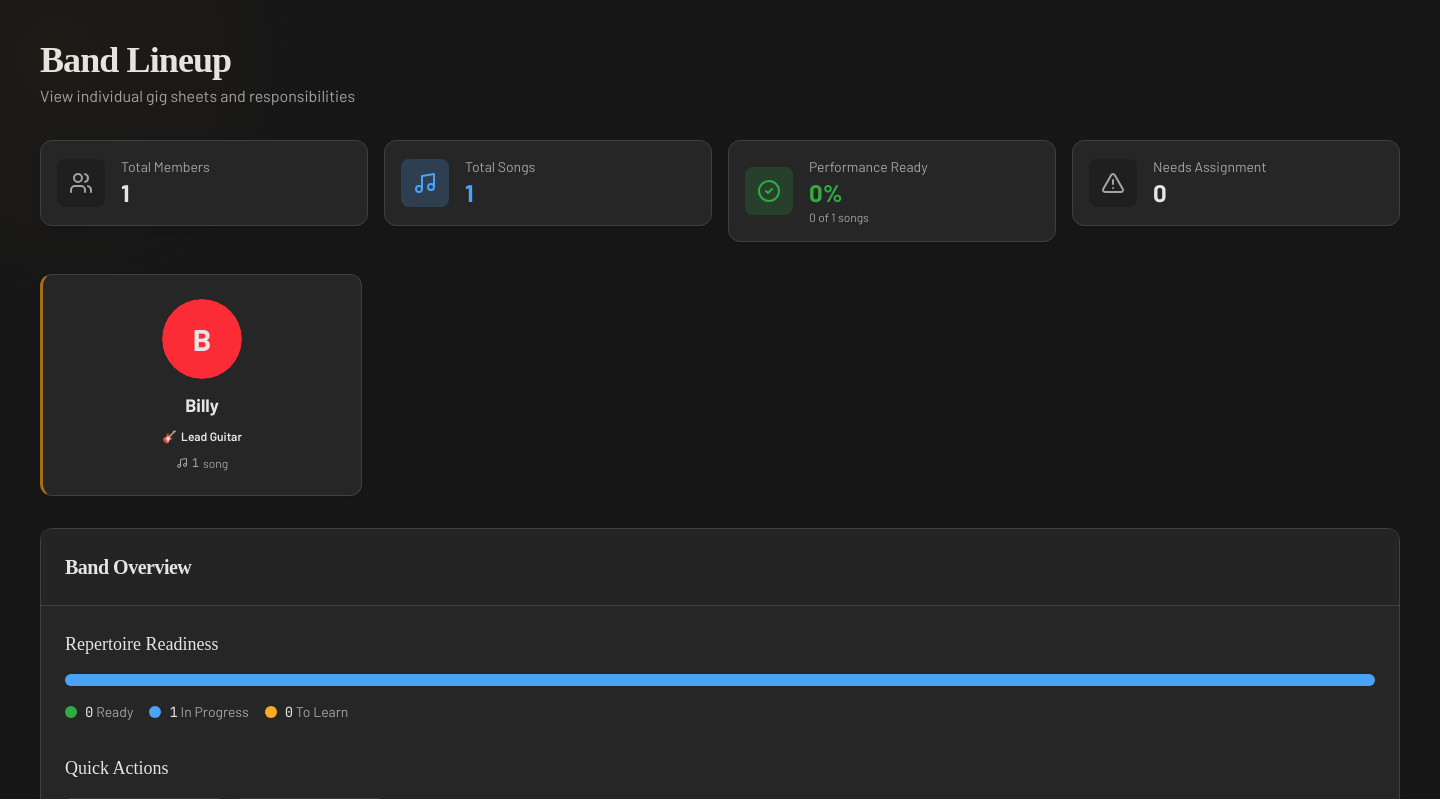
Test: BandDashboard › member selection › closes Gig Sheet when close button is clicked
This screenshot has width=1440, height=799.
// Click on Billy's card
Click the button with aria-label "Select Billy". click: [202, 339]
box: 40,274 -> 362,496
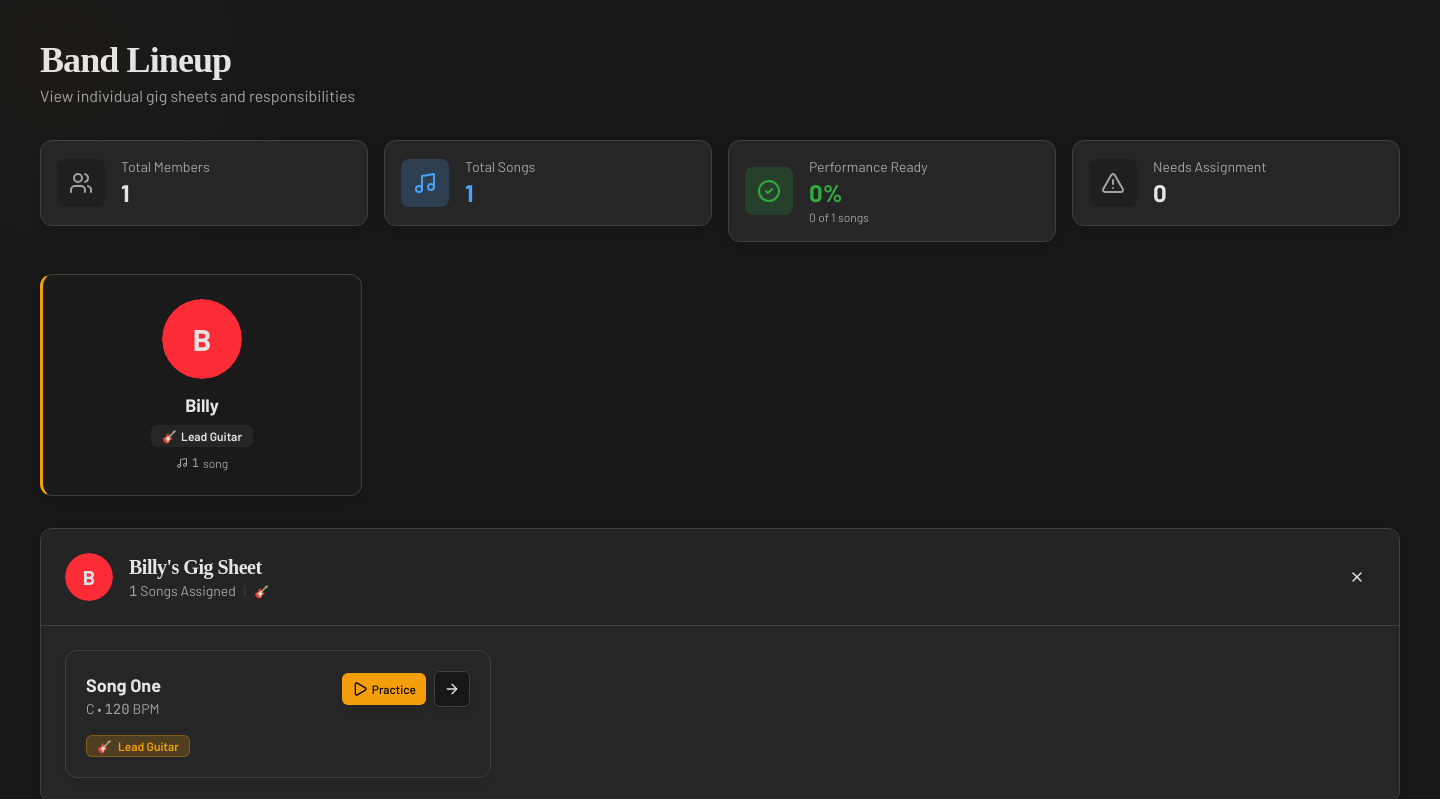
Now the heading "Billy's Gig Sheet" is shown, box 129,553 -> 269,581
// Click close button
Click the button named "Close member details". click: [1357, 577]
box: 1339,559 -> 1375,595
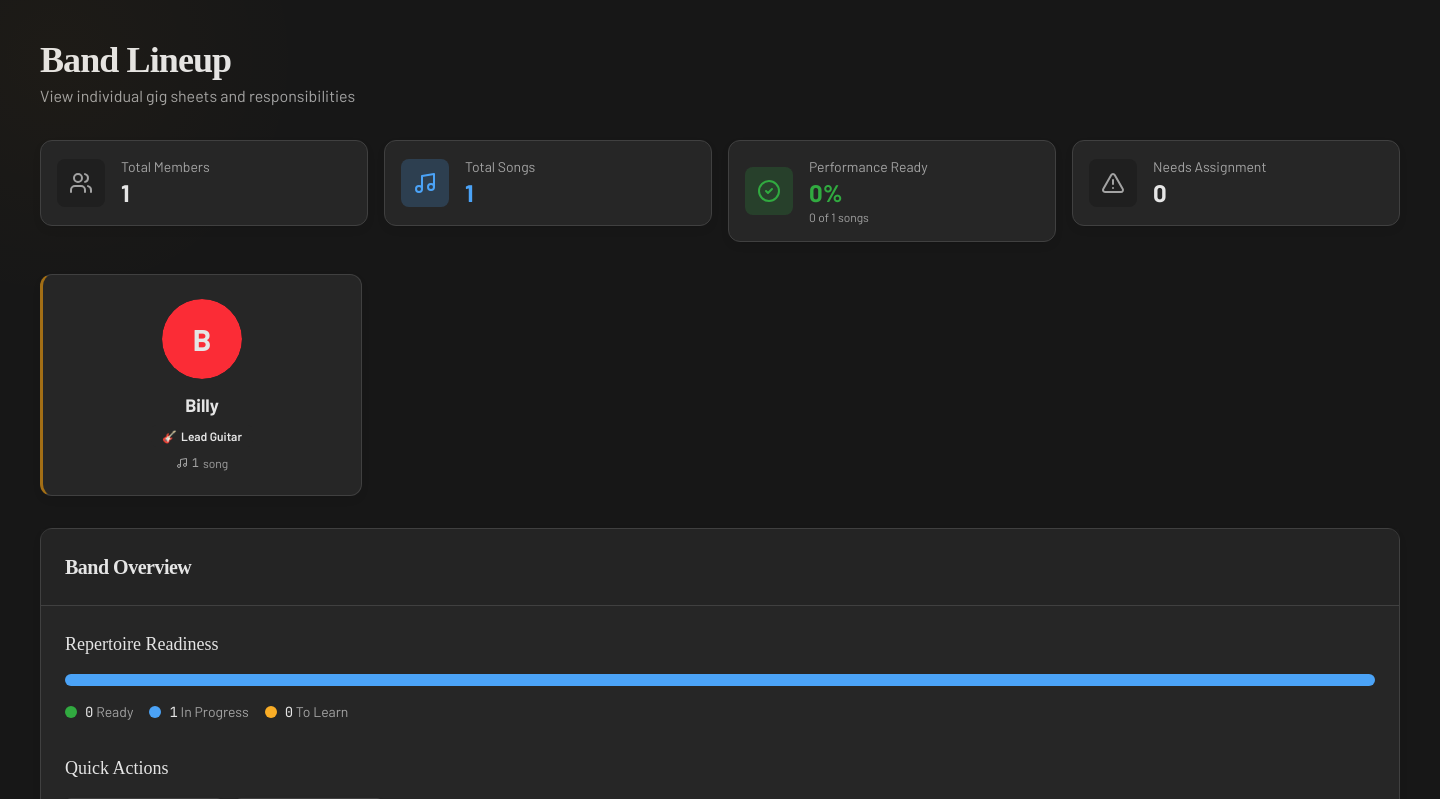
Now the heading "Band Overview" is shown, box 65,556 -> 191,578
